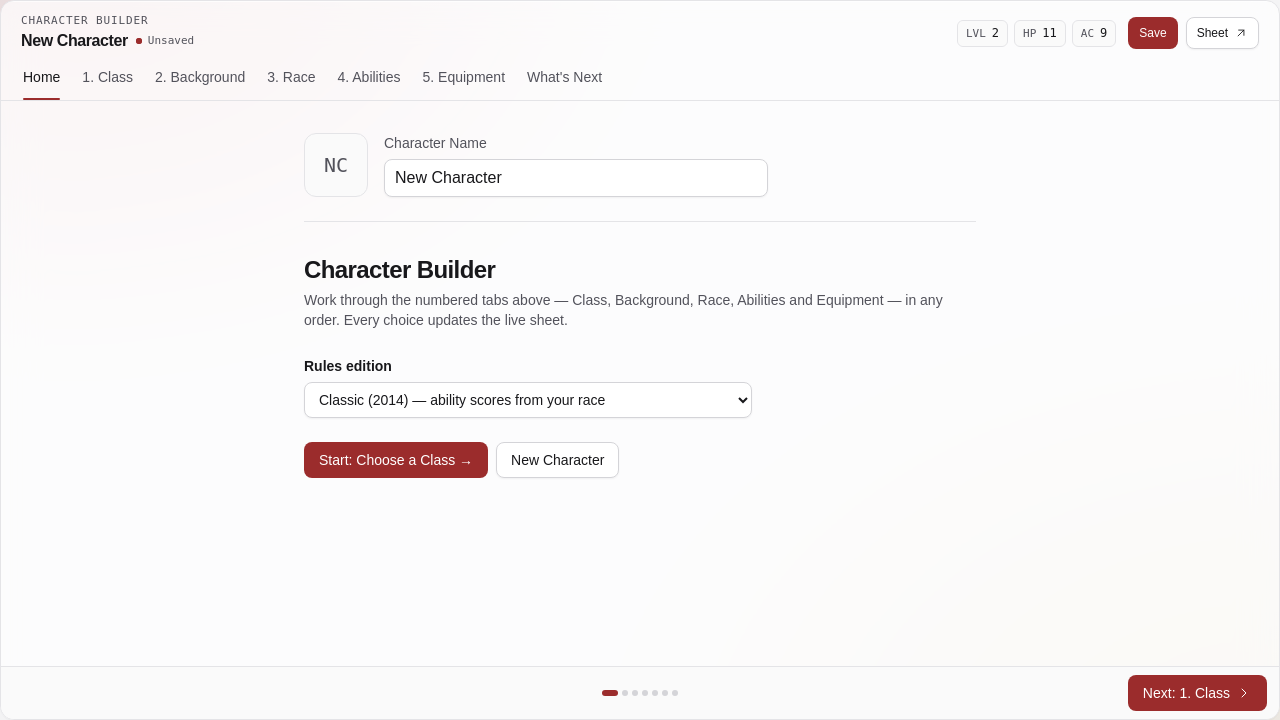
Test: class feature choice prompts › explains which file to import when a progression's options are missing
The width and height of the screenshot is (1280, 720).
What coordinates should you click on to do the following:
click the button "1. Class"
I would click on:
 (108, 80)
Its box is x1=72 y1=59 x2=143 y2=100.
(page scrolled)
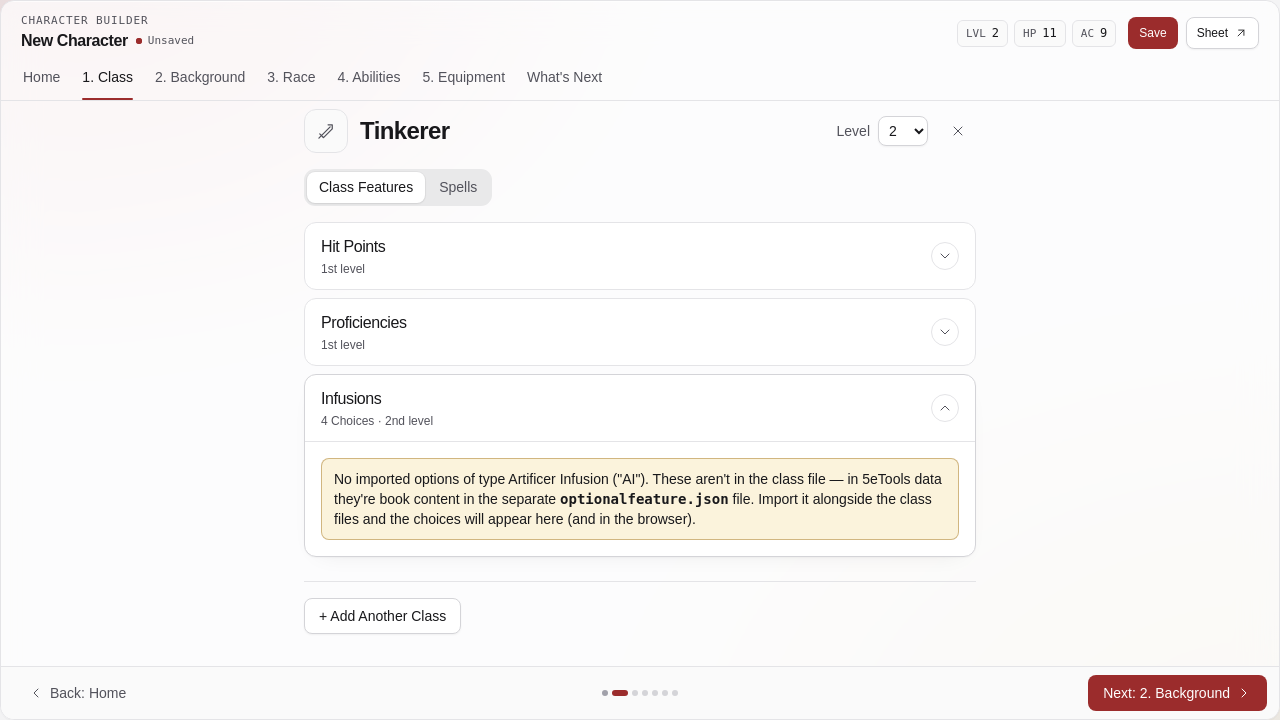
Now the text "Artificer Infusion (\"AI\")" is shown, box x1=508 y1=471 x2=645 y2=487
Now the text "optionalfeature.json" is shown, box x1=560 y1=491 x2=729 y2=507
